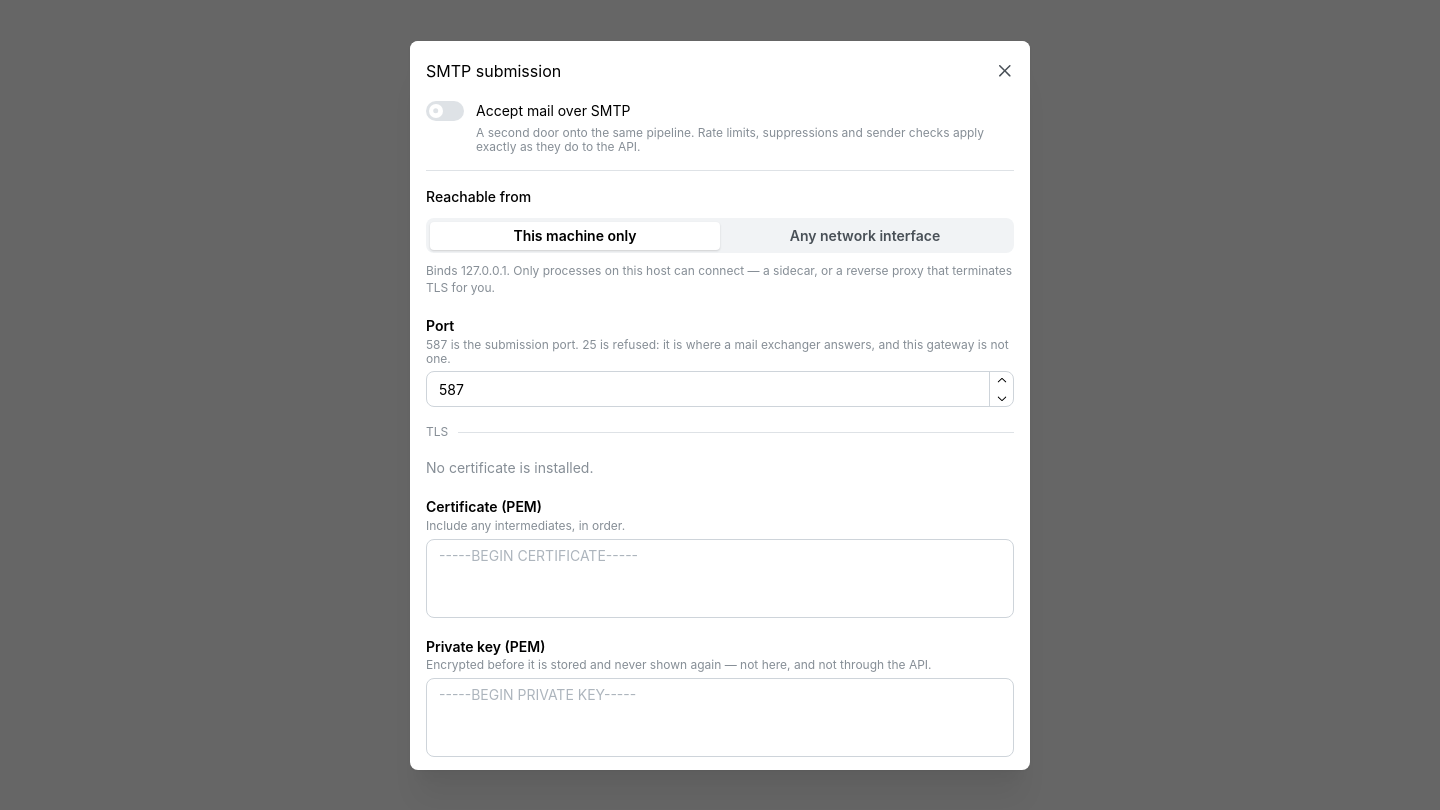
it: SmtpSubmissionForm › port 25 is refused with the reason
This screenshot has width=1440, height=810.
Step 1. Replace the text in the field labelled "Port" with "25" → (720, 389), box left=426, top=371, right=1014, bottom=407
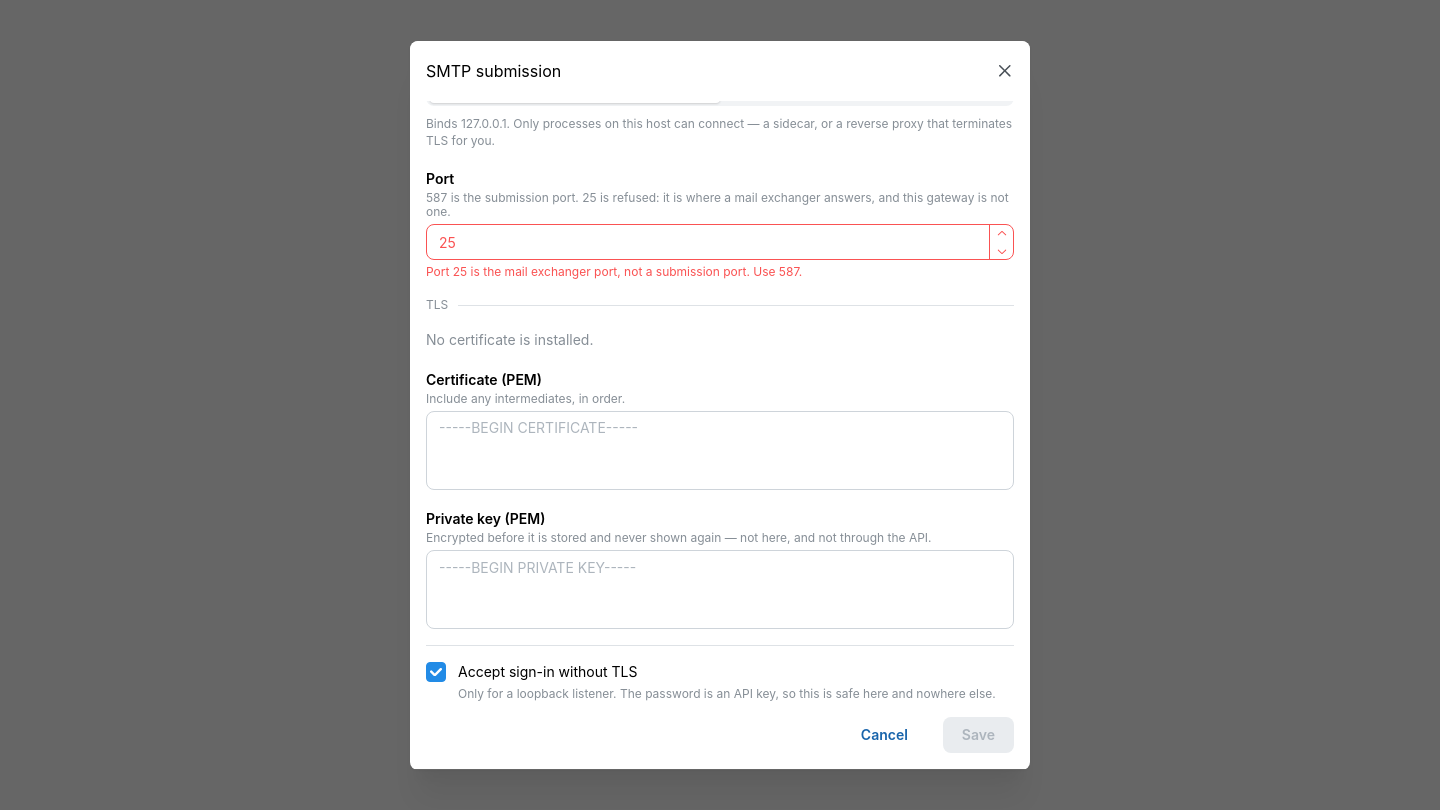
Now the text "mail exchanger port" is shown, box left=426, top=264, right=802, bottom=279
Now the button "Save" is disabled, box left=943, top=718, right=1014, bottom=754
